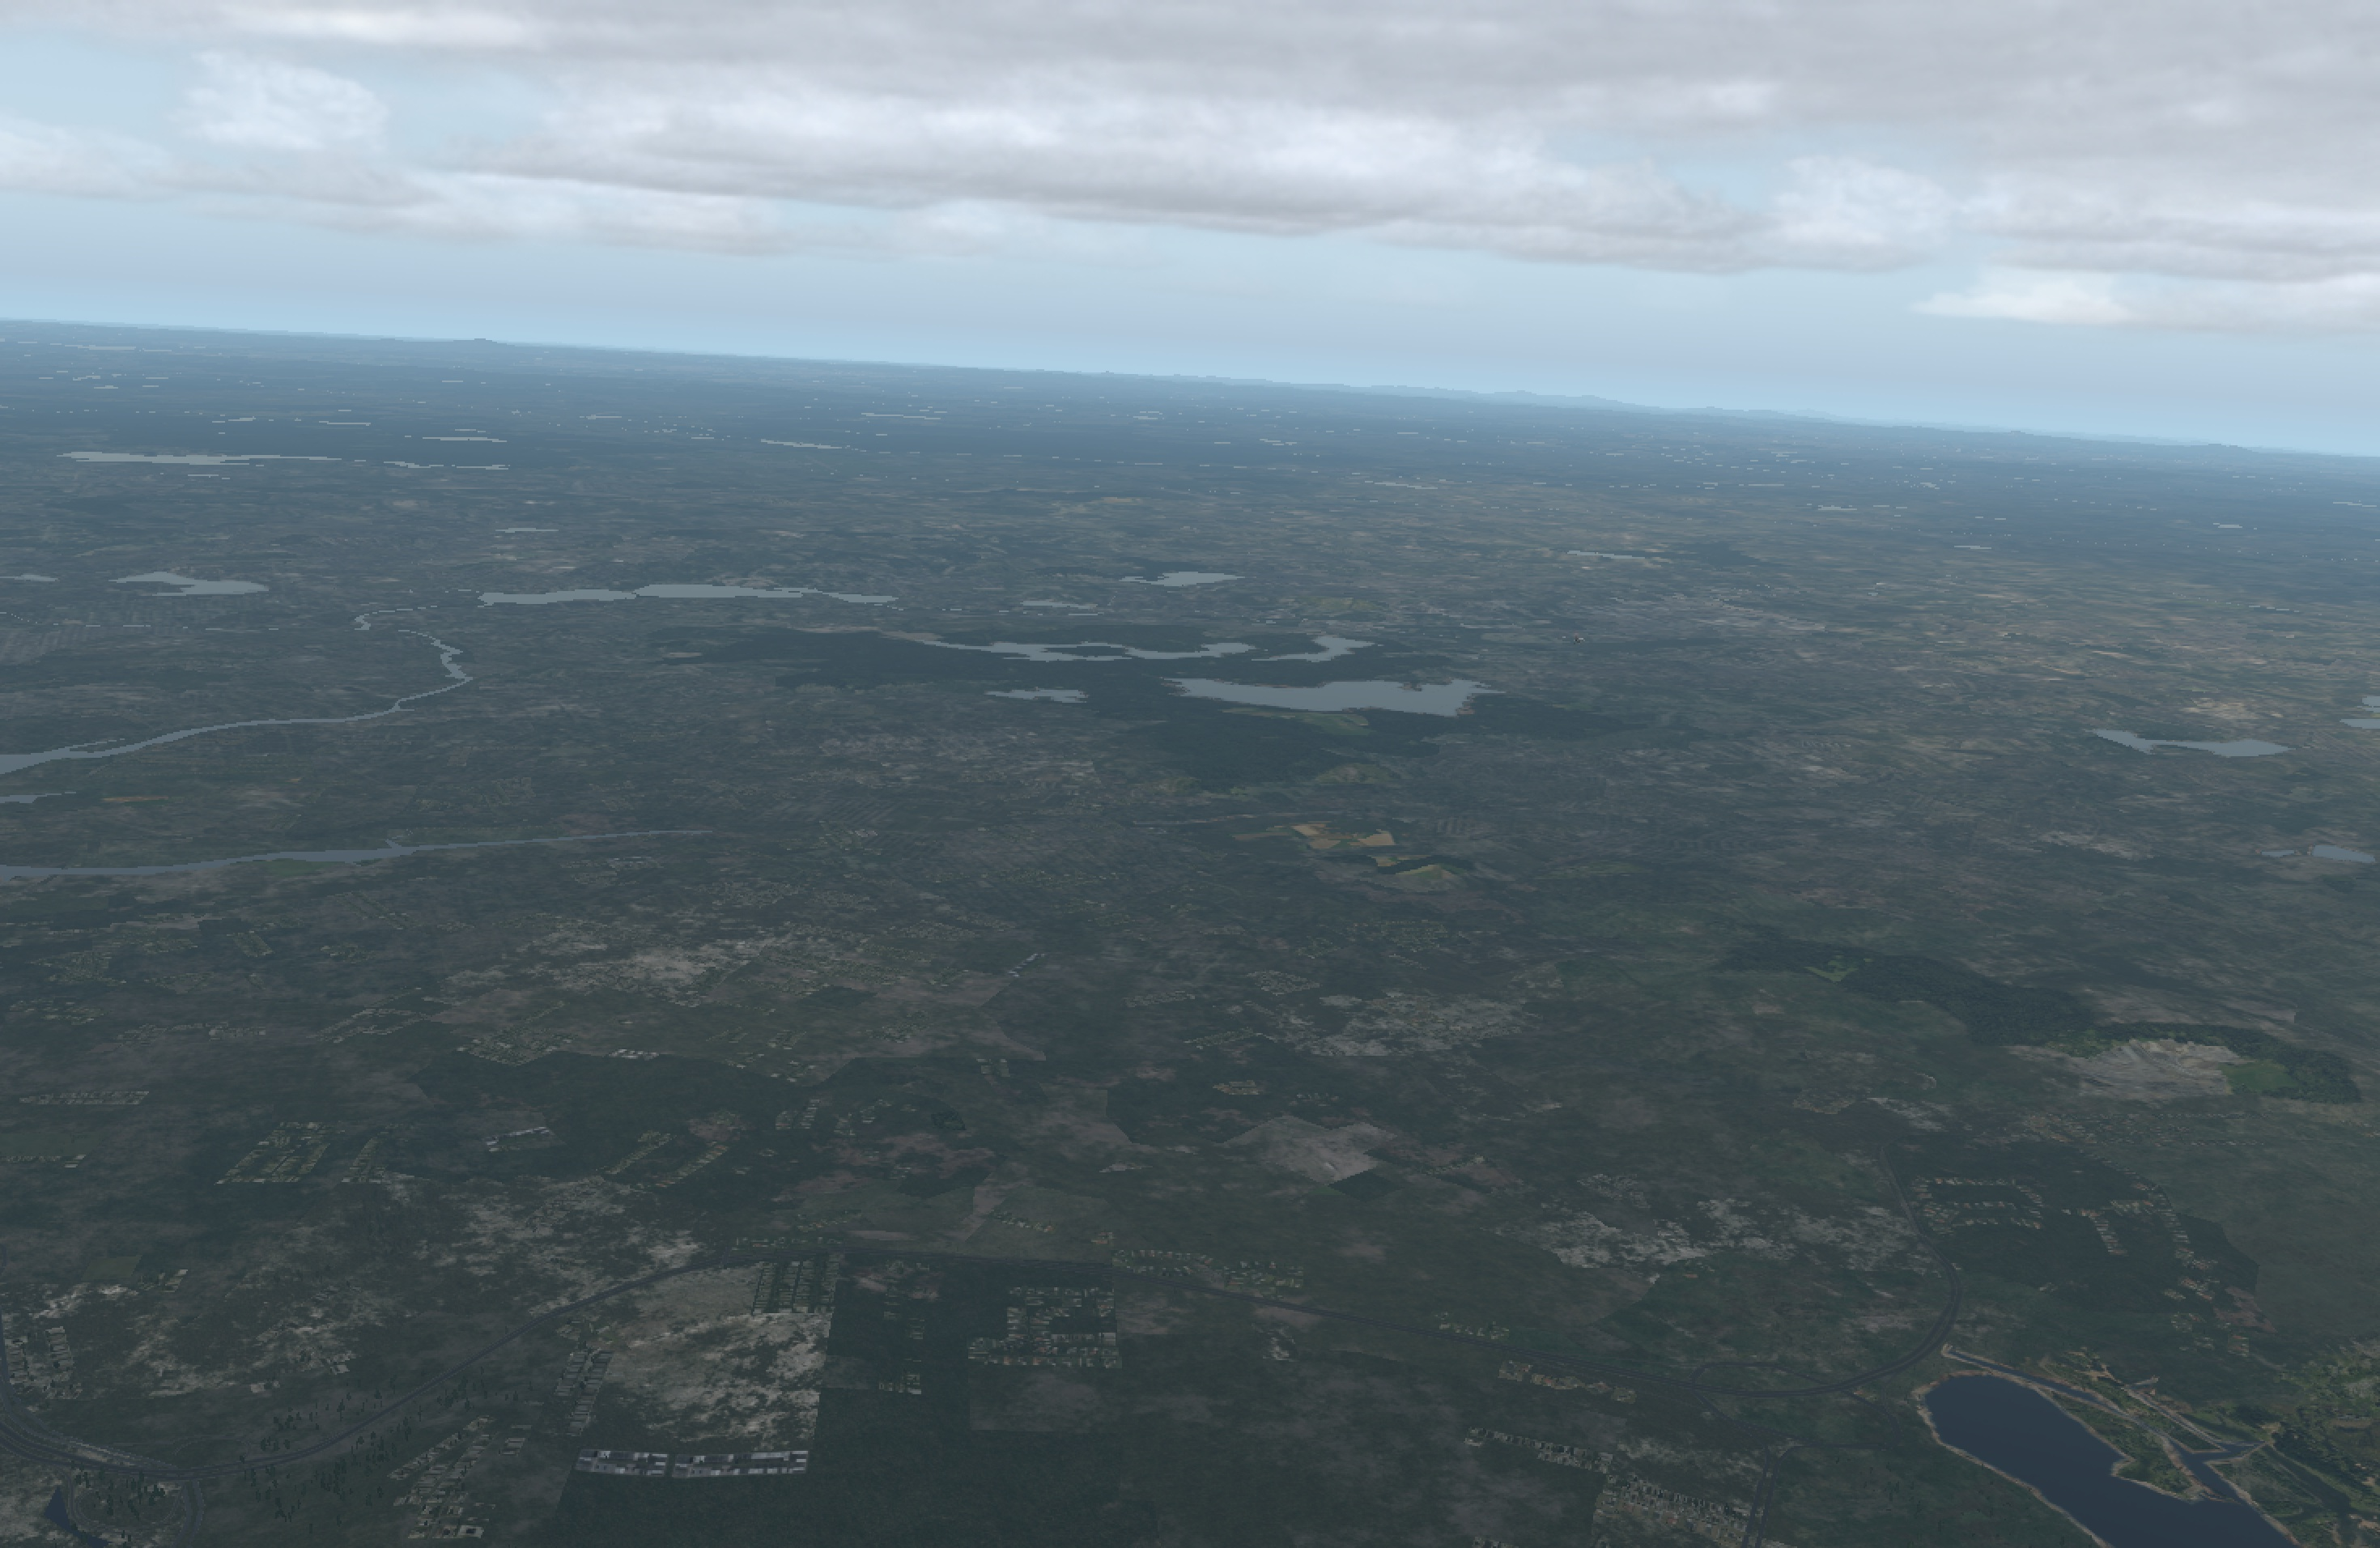aircraft: (1566, 637, 1589, 644)
